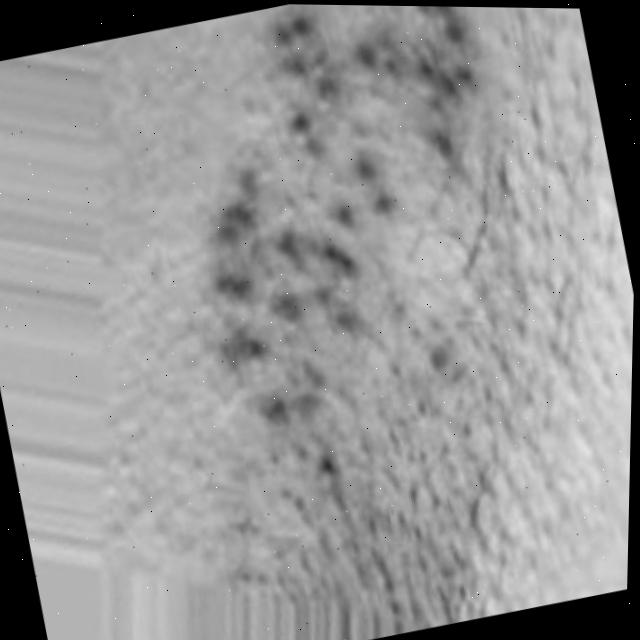Shingles: (134, 2, 548, 484)
